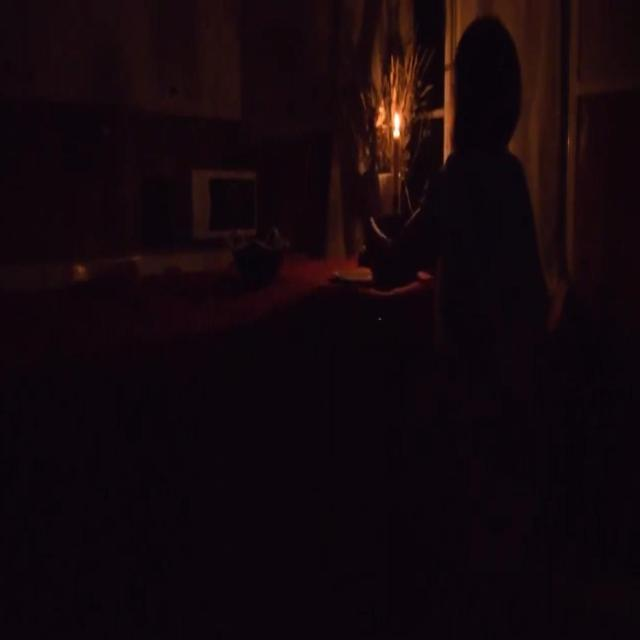smoke: (392, 110, 401, 133)
